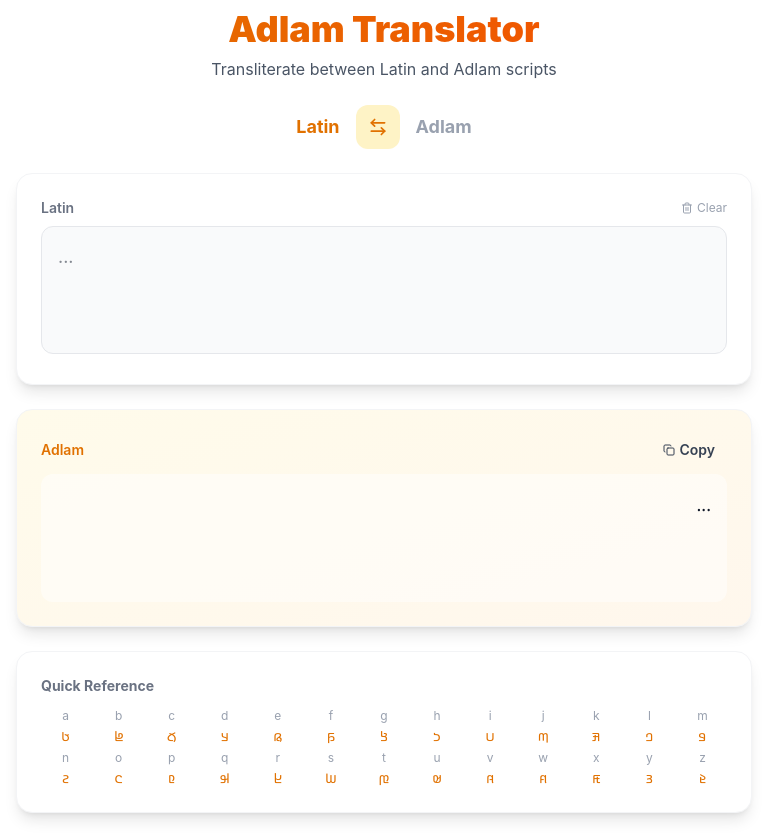
Test: TranslatorScreen › translates input text
Type "abc" into the text box with placeholder "...".
click(384, 290); type("abc")  # box [41,226,727,354]
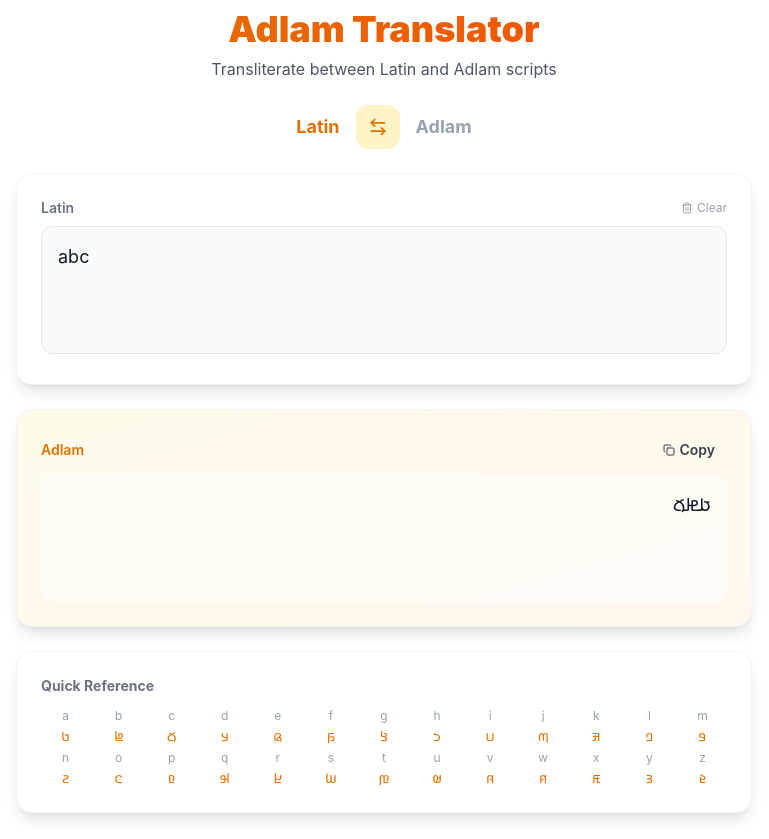
expect the text "𞤢𞤦𞤷" is shown: met, box [41,474,727,602]
